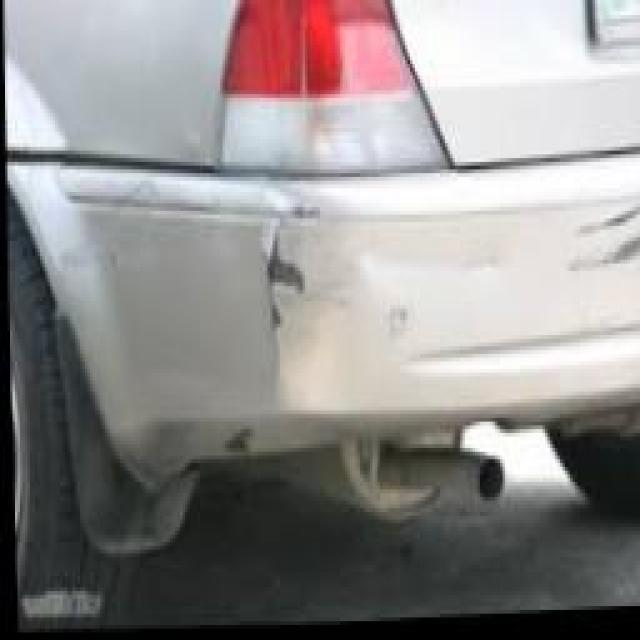Bumper: (75, 166, 407, 481), (485, 169, 640, 388)
Fender: (2, 19, 96, 162)
